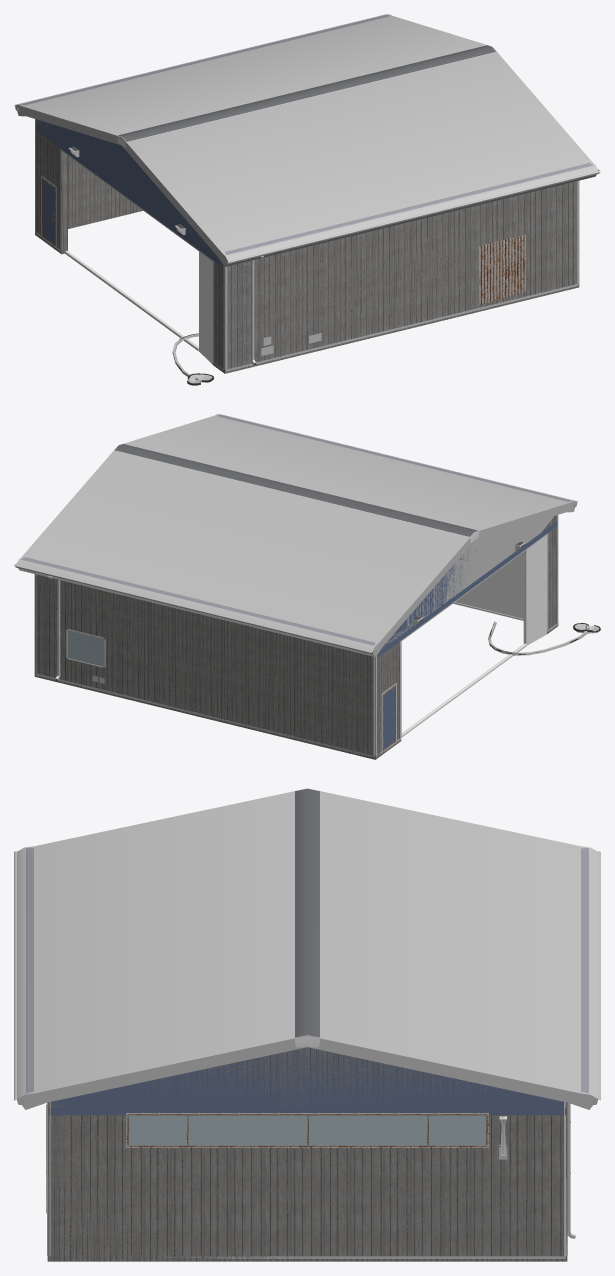
File: si_helicopter_bld.DAE
3 renders of one model, top to bottom at view 1: azimuth 30°, elevation 25°; view 2: azimuth 150°, elevation 25°; view 3: azimuth 270°, elevation 25°, orthographic. The views are drawn at different scales.
Visible parts, largest first — view 1: Colmesh-1, si_helicopter_bld500; view 2: Colmesh-1, si_helicopter_bld500, si_helicopter_bld60; view 3: Colmesh-1, si_helicopter_bld500, si_helicopter_bld60.
Boxes of the visible parts, box(x1,y1,x2,y2) form: Colmesh-1: box(15, 14, 598, 385); si_helicopter_bld500: box(14, 14, 600, 385); Colmesh-1: box(16, 414, 600, 759); si_helicopter_bld500: box(14, 414, 600, 757); si_helicopter_bld60: box(67, 630, 103, 666); Colmesh-1: box(17, 788, 597, 1261); si_helicopter_bld500: box(14, 788, 600, 1258); si_helicopter_bld60: box(67, 1115, 563, 1256).
Bounding box in the file's own units: 1594 × 1469 × 639.
